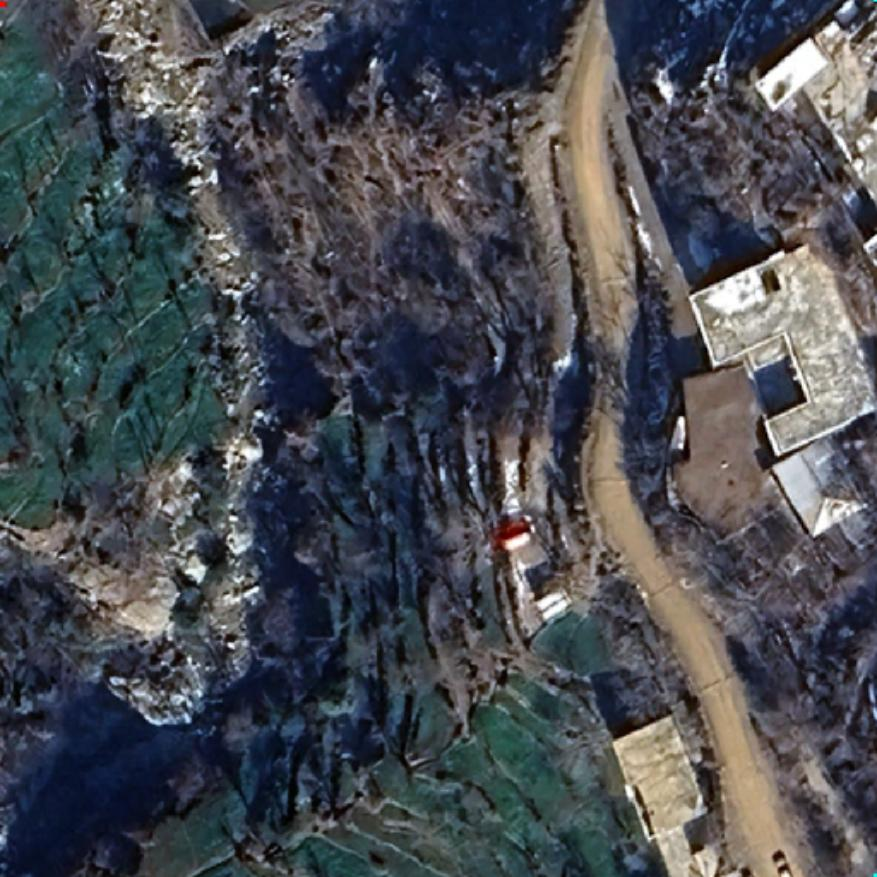Solarpanel: (758, 266, 782, 296)
